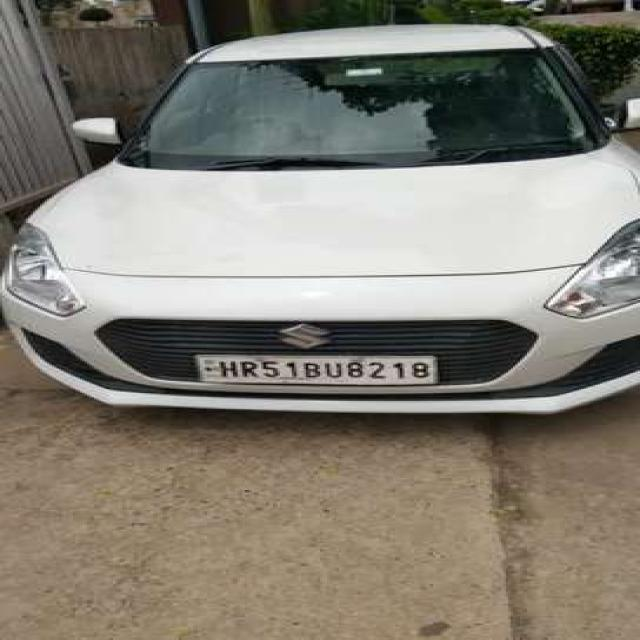licenseplate: (191, 352, 440, 386)
